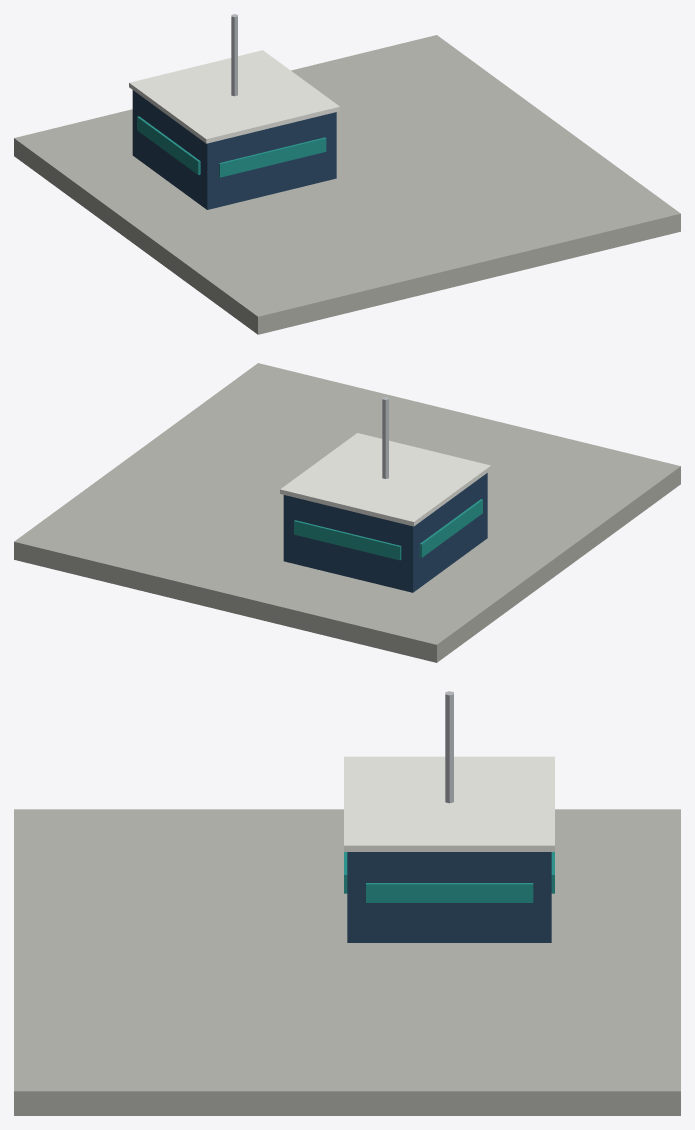
The model's file is finance_special_1.glb.
3 renders of one model, top to bottom at view 1: azimuth 30°, elevation 25°; view 2: azimuth 150°, elevation 25°; view 3: azimuth 270°, elevation 25°, orthographic. The views are drawn at different scales.
Visible parts, largest first — view 1: finance_special_1; view 2: finance_special_1; view 3: finance_special_1.
Part boxes in pixels (x1,y1,x2,y2): finance_special_1: [14, 14, 680, 334]; finance_special_1: [14, 363, 680, 662]; finance_special_1: [14, 691, 680, 1115].
Bounding box in the file's own units: 1.96 × 0.75 × 1.96.
